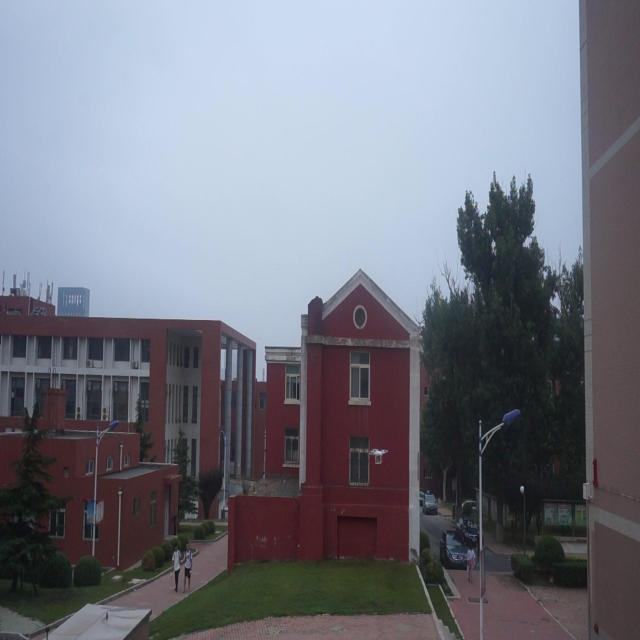drone: (368, 444, 390, 468)
